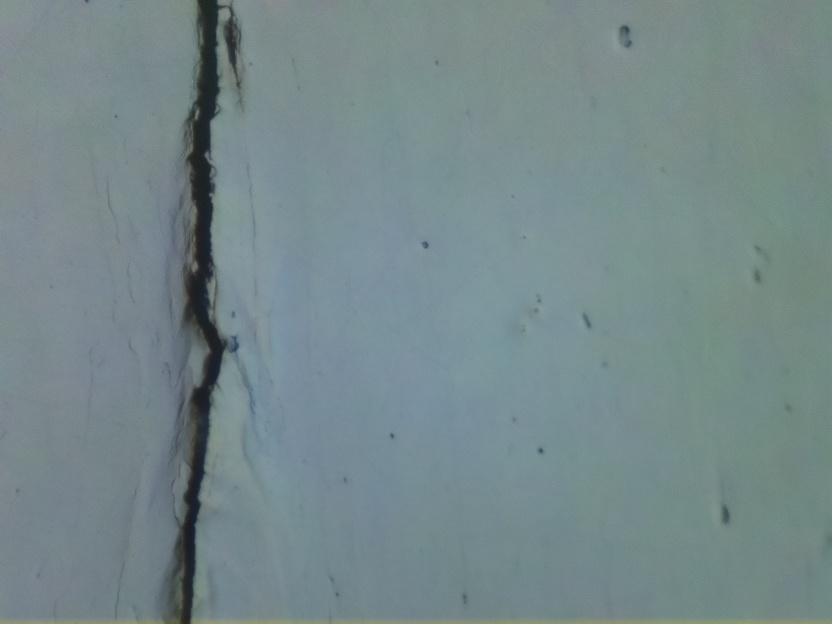crack: (166, 0, 237, 624)
